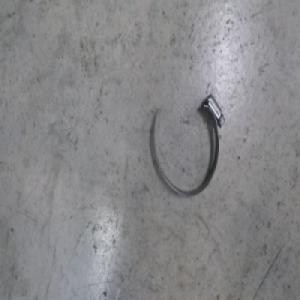AdjustableClamp: (150, 92, 226, 200)
